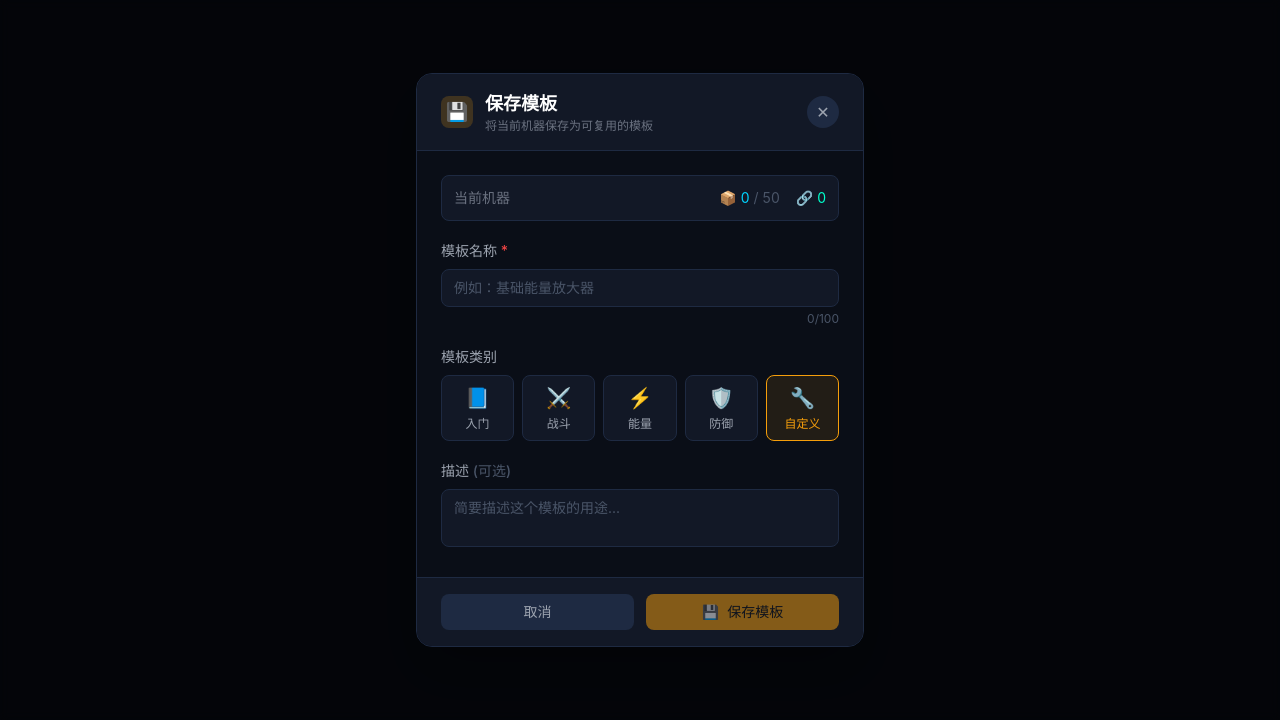
Test case: SaveTemplateModal Regression Tests › Additional modal close behavior tests › should have save button enabled when template name is filled
// Fill in template name
Type "Test Name" into the field labelled "模板名称 *".
click(640, 288); type("Test Name")  # box [441,269,839,307]
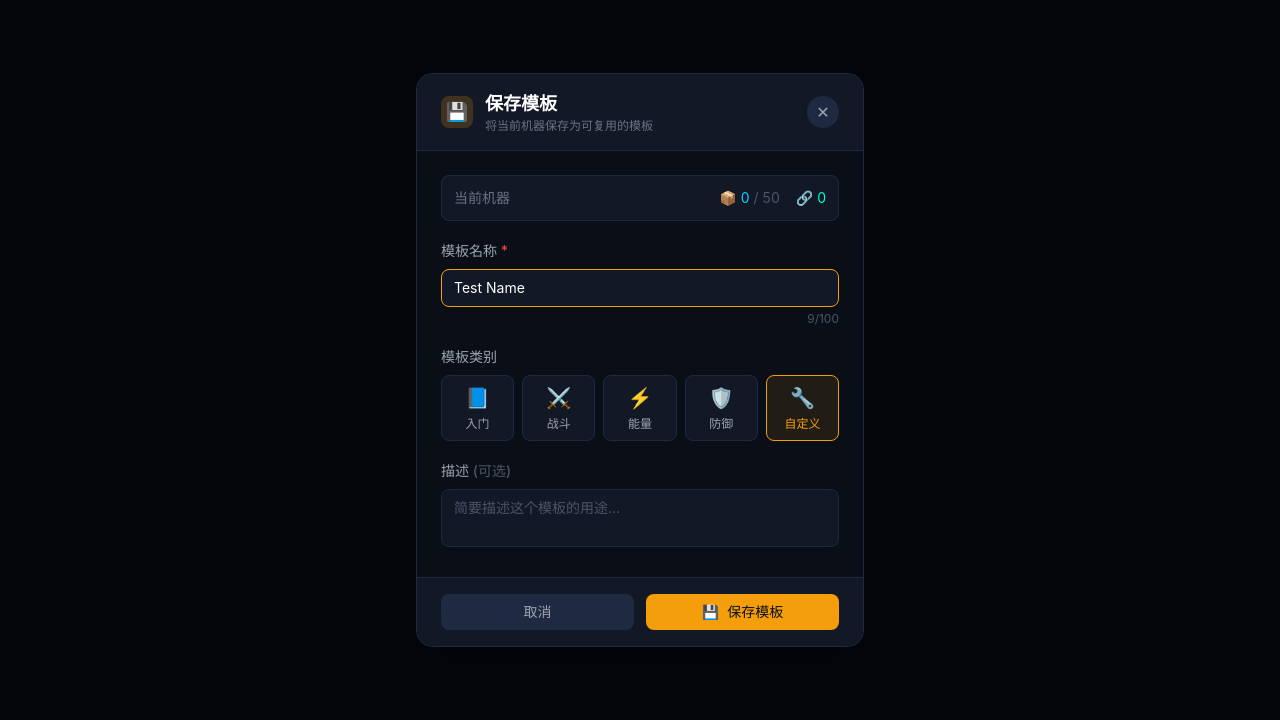
Result: the button "💾 保存模板" is enabled at [646,594,839,630]
